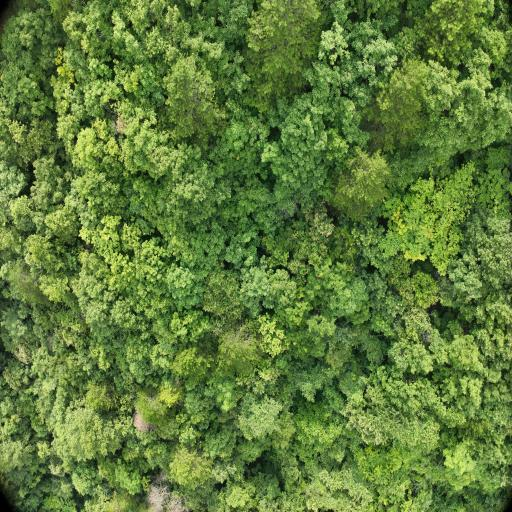dead-tree: (150, 488, 174, 512)
